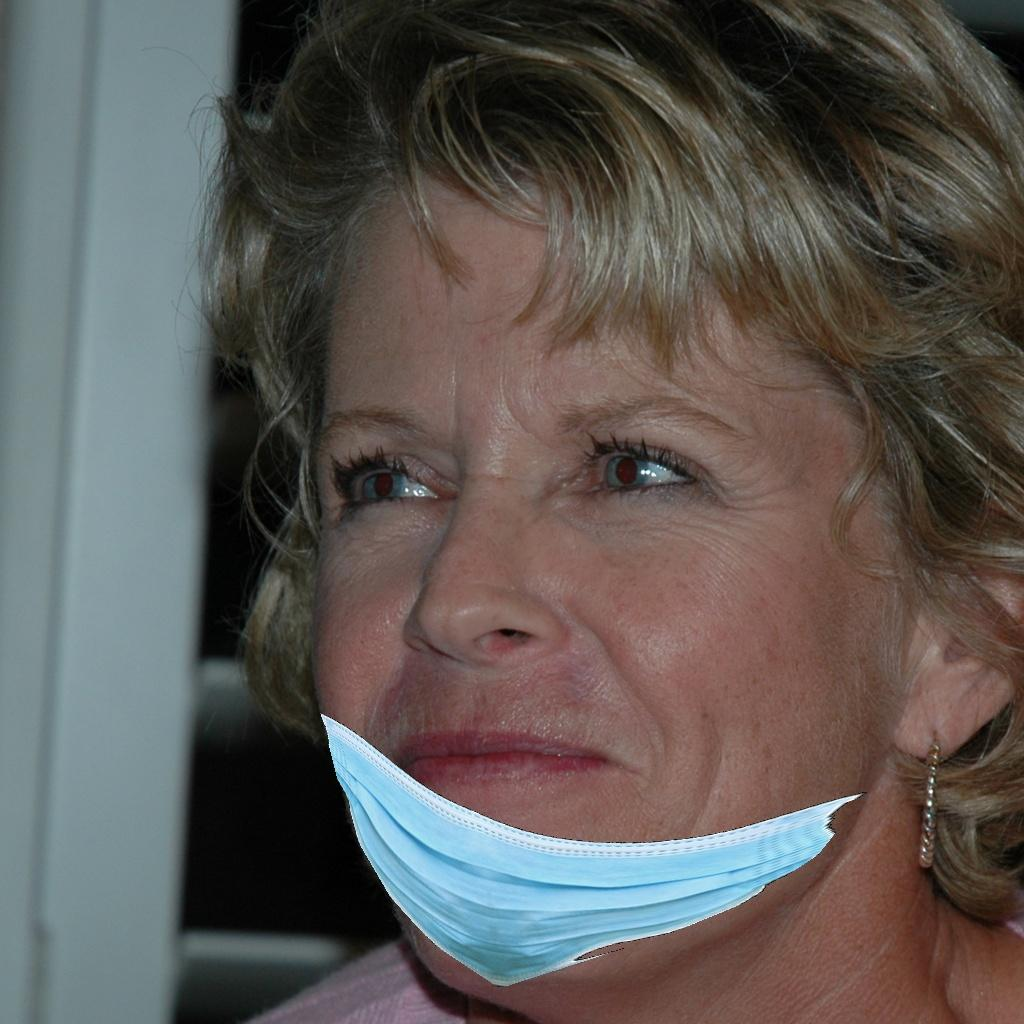Máscara Incorreta: (275, 253, 888, 966)
